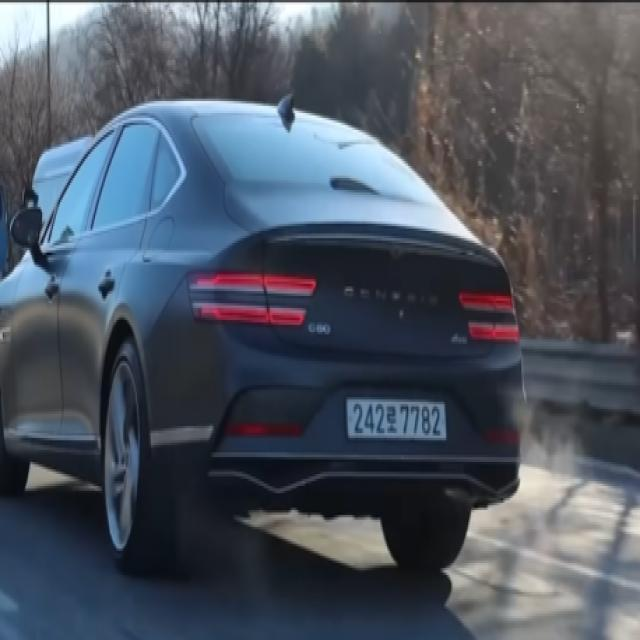car: (322, 369, 495, 475)
carev: (337, 392, 355, 449), (439, 398, 453, 448)
